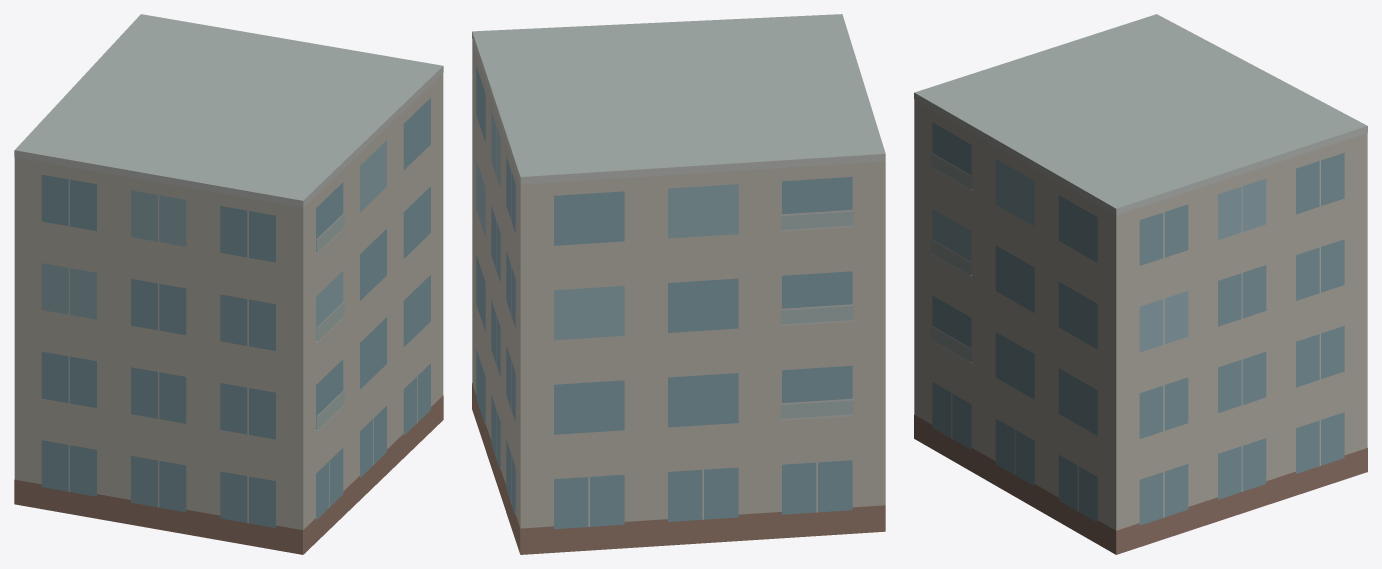
The model's file is survey-upis-32466634.glb.
3 renders of one model, left to right at view 1: azimuth 30°, elevation 25°; view 2: azimuth 150°, elevation 25°; view 3: azimuth 270°, elevation 25°, orthographic. The views are drawn at different scales.
Visible parts, largest first — view 1: survey-upis-32466634.tmp; view 2: survey-upis-32466634.tmp; view 3: survey-upis-32466634.tmp.
Boxes of the visible parts, x1,y1,x2,y2 form: survey-upis-32466634.tmp: [14, 14, 443, 554]; survey-upis-32466634.tmp: [472, 14, 885, 554]; survey-upis-32466634.tmp: [914, 14, 1367, 554].
Size of the model in its own units: 14.97 by 12.4 by 14.73.
